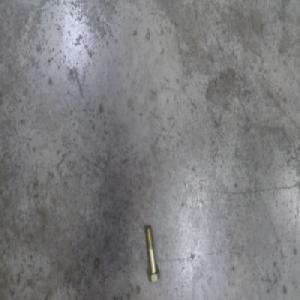Bolt: (143, 225, 160, 282)
